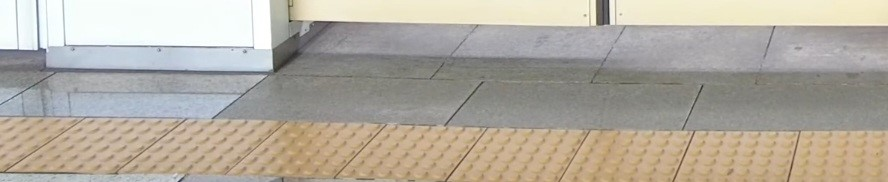warningBlock: (149, 117, 248, 177), (348, 125, 456, 176), (50, 118, 148, 174), (256, 117, 347, 175), (787, 130, 888, 182), (460, 127, 563, 173), (572, 132, 669, 178), (670, 132, 774, 174), (4, 110, 53, 160)
